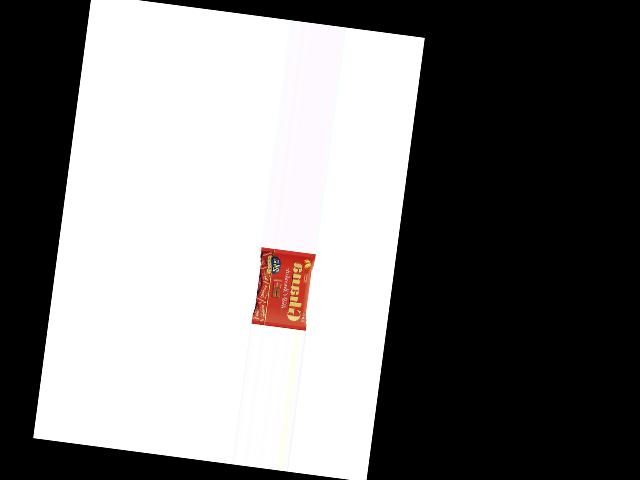chocolate: (249, 245, 314, 329)
